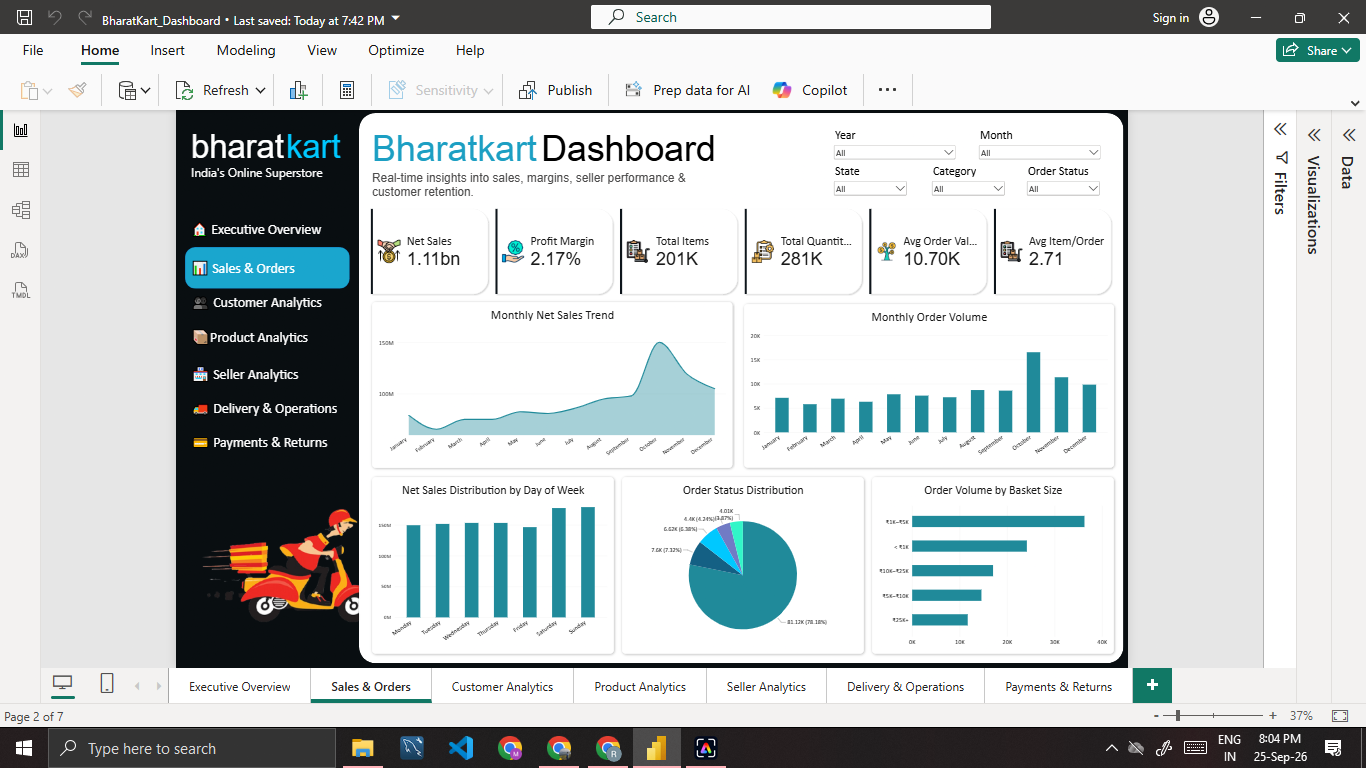

The page's visual inventory and layout, read from the dashboard file:
{"tool":"powerbi","page":{"name":"Sales & Orders","canvas":[2560,1500],"ordinal":1},"visuals":[{"type":"shape","box":[493.1,8.9,2055.1,1479.3],"z":0},{"type":"textbox","box":[41.3,47.2,286.4,103.3],"z":1000},{"type":"textbox","box":[295.3,47.2,171.3,103.3],"z":2000},{"type":"textbox","box":[41.3,144.7,386.8,53.1],"z":3000},{"type":"shape","box":[24.2,368.3,442.9,112.2],"z":4000},{"type":"textbox","box":[40.3,293,366.1,65],"z":5000},{"type":"textbox","box":[40.3,397.8,365.6,53.8],"z":6000},{"type":"textbox","box":[40.3,682.8,366.1,65],"z":7000},{"type":"textbox","box":[40.3,489.2,366.1,65],"z":8000},{"type":"textbox","box":[40.3,583.3,366.1,65],"z":9000},{"type":"textbox","box":[40.3,774.2,425.2,65],"z":10000},{"type":"textbox","box":[40.3,865.6,425.2,65],"z":11000},{"type":"image","box":[0,986.2,564,475.4],"z":12000},{"type":"textbox","box":[981.2,34.9,489.2,129],"z":13000},{"type":"textbox","box":[526.9,34.9,454.3,129],"z":14000},{"type":"textbox","box":[526.9,164,865.6,80.6],"z":15000},{"type":"slicer","fields":{"Values":["Calendar.Year"]},"box":[1762.8,47.2,336.6,118.1],"z":16000},{"type":"slicer","fields":{"Values":["orders.delivery_state"]},"box":[1762.8,144.7,206.5,118.4],"z":17000},{"type":"slicer","fields":{"Values":["Calendar.Month"]},"box":[2152.6,47.2,336.6,118.1],"z":18000},{"type":"slicer","fields":{"Values":["products.category"]},"box":[2025.6,144.7,206.5,118.4],"z":19000},{"type":"slicer","fields":{"Values":["orders.order_status"]},"box":[2282.3,145.2,206.5,118.4],"z":20000},{"type":"cardVisual","fields":{"Data":["DAX.Net Sales","DAX.Profit Margin","DAX.Total Items","DAX.Total Quantity Sold","DAX.Average Order Value","DAX.Avg Items per Order"]},"box":[502.7,244.6,2034.9,271.5],"z":21000},{"type":"lineChart","title":"Monthly Net Sales Trend","fields":{"Category":["Calendar.Month"],"Y":["DAX.Net Sales"]},"box":[525.6,516.7,968.5,445.9],"z":22000},{"type":"columnChart","title":"Monthly Order Volume","fields":{"Category":["Calendar.Month"],"Y":["DAX.Total Orders"]},"box":[1526.6,522.6,995.1,440],"z":23000},{"type":"pieChart","title":" Order Status Distribution","fields":{"Category":["orders.order_status"],"Y":["CountNonNull(orders.order_id)"]},"box":[1198.8,986.2,649.6,475.4],"z":24000},{"type":"clusteredColumnChart","title":"Net Sales Distribution by Day of Week","fields":{"Category":["Calendar.Day Name"],"Y":["DAX.Net Sales"]},"box":[525.6,986.2,649.6,475.4],"z":25000},{"type":"barChart","title":"Order Volume by Basket Size","fields":{"Category":["orders.Order Value Bucket"],"Y":["DAX.Total Orders"]},"box":[1872,986.2,649.6,475.4],"z":26000}]}

Visuals, with their boxes on the page's 2560x1500 design canvas (x1, y1, x2, y2). These are canvas units, not pixel positions in the 1366x768 screenshot, which may show the page scaled, cropped or inside an application window:
shape: x1=493, y1=9, x2=2548, y2=1488
textbox: x1=41, y1=47, x2=328, y2=150
textbox: x1=295, y1=47, x2=467, y2=150
textbox: x1=41, y1=145, x2=428, y2=198
shape: x1=24, y1=368, x2=467, y2=480
textbox: x1=40, y1=293, x2=406, y2=358
textbox: x1=40, y1=398, x2=406, y2=452
textbox: x1=40, y1=683, x2=406, y2=748
textbox: x1=40, y1=489, x2=406, y2=554
textbox: x1=40, y1=583, x2=406, y2=648
textbox: x1=40, y1=774, x2=466, y2=839
textbox: x1=40, y1=866, x2=466, y2=931
image: x1=0, y1=986, x2=564, y2=1462
textbox: x1=981, y1=35, x2=1470, y2=164
textbox: x1=527, y1=35, x2=981, y2=164
textbox: x1=527, y1=164, x2=1392, y2=245
slicer - Calendar.Year: x1=1763, y1=47, x2=2099, y2=165
slicer - orders.delivery_state: x1=1763, y1=145, x2=1969, y2=263
slicer - Calendar.Month: x1=2153, y1=47, x2=2489, y2=165
slicer - products.category: x1=2026, y1=145, x2=2232, y2=263
slicer - orders.order_status: x1=2282, y1=145, x2=2489, y2=264
cardVisual - DAX.Net Sales x DAX.Profit Margin: x1=503, y1=245, x2=2538, y2=516
"Monthly Net Sales Trend" lineChart: x1=526, y1=517, x2=1494, y2=963
"Monthly Order Volume" columnChart: x1=1527, y1=523, x2=2522, y2=963
" Order Status Distribution" pieChart: x1=1199, y1=986, x2=1848, y2=1462
"Net Sales Distribution by Day of Week" clusteredColumnChart: x1=526, y1=986, x2=1175, y2=1462
"Order Volume by Basket Size" barChart: x1=1872, y1=986, x2=2522, y2=1462
